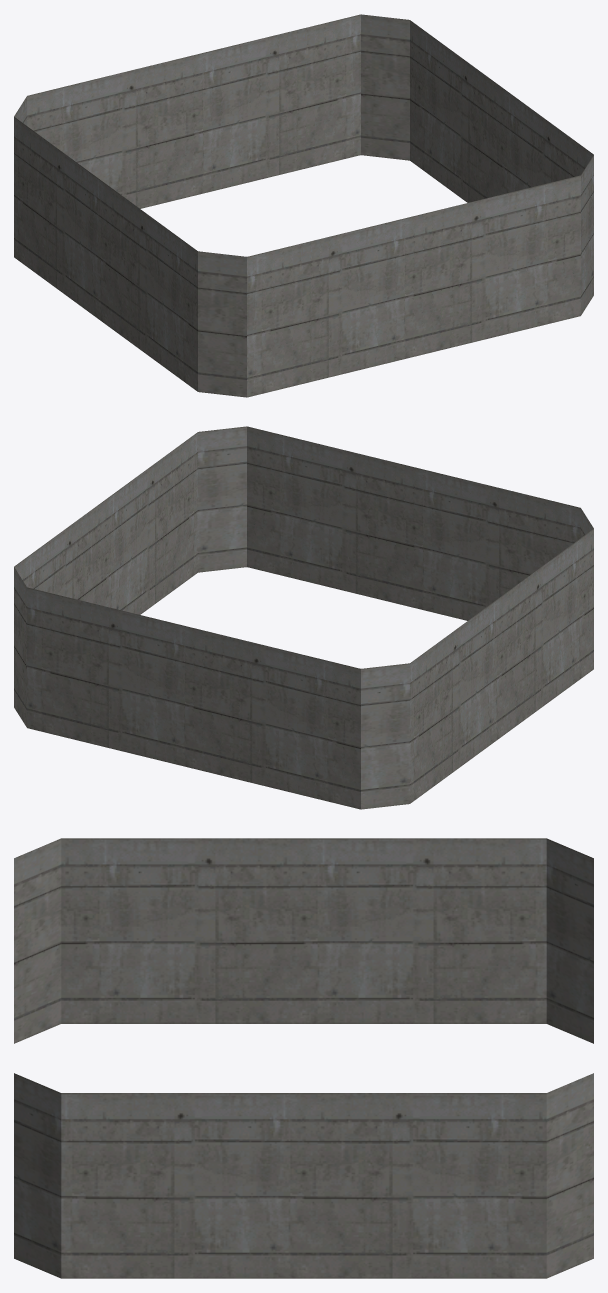
The model's file is cxrf_a51sect2.obj.
3 renders of one model, top to bottom at view 1: azimuth 30°, elevation 25°; view 2: azimuth 150°, elevation 25°; view 3: azimuth 270°, elevation 25°, orthographic. The views are drawn at different scales.
Parts seen in each view (by area): view 1: cxrf_a51sect2; view 2: cxrf_a51sect2; view 3: cxrf_a51sect2.
Part boxes in pixels (bbox=[...]): cxrf_a51sect2: bbox=[14, 14, 593, 397]; cxrf_a51sect2: bbox=[14, 426, 593, 809]; cxrf_a51sect2: bbox=[14, 838, 593, 1278].
Bounding box in the file's own units: 13.82 × 4.69 × 13.29.
1 material, 1 textured.
